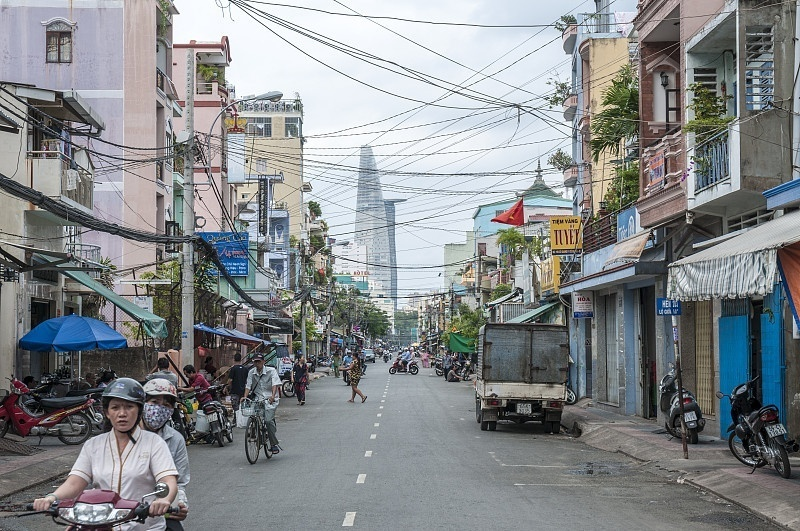non-vehicle: (0, 376, 97, 443), (726, 389, 795, 482), (19, 492, 170, 531), (657, 367, 706, 449), (181, 380, 231, 446), (243, 393, 277, 460), (389, 348, 419, 373)
